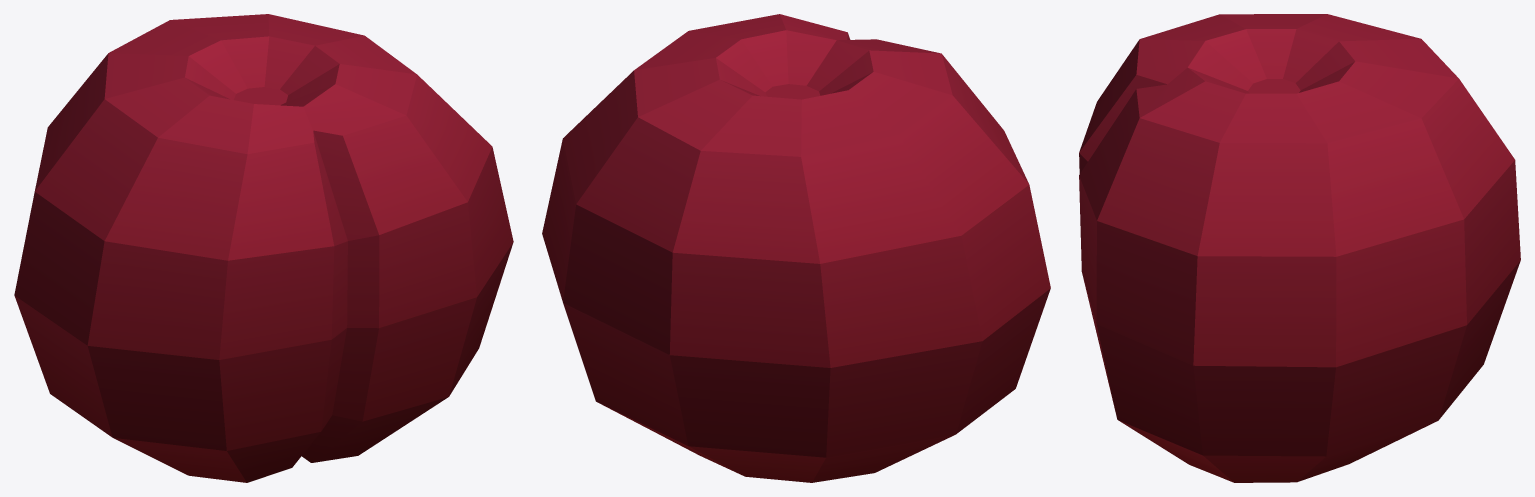
File: Cherry Piece.fbx
3 renders of one model, left to right at view 1: azimuth 30°, elevation 25°; view 2: azimuth 150°, elevation 25°; view 3: azimuth 270°, elevation 25°, orthographic.
Parts seen in each view (by area): view 1: Cherry Piece; view 2: Cherry Piece; view 3: Cherry Piece.
Part boxes in pixels (x1,y1,x2,y2): Cherry Piece: [14, 14, 513, 482]; Cherry Piece: [542, 14, 1050, 482]; Cherry Piece: [1079, 14, 1520, 482].
Bounding box in the file's own units: 5.96 × 4.87 × 5.19.
